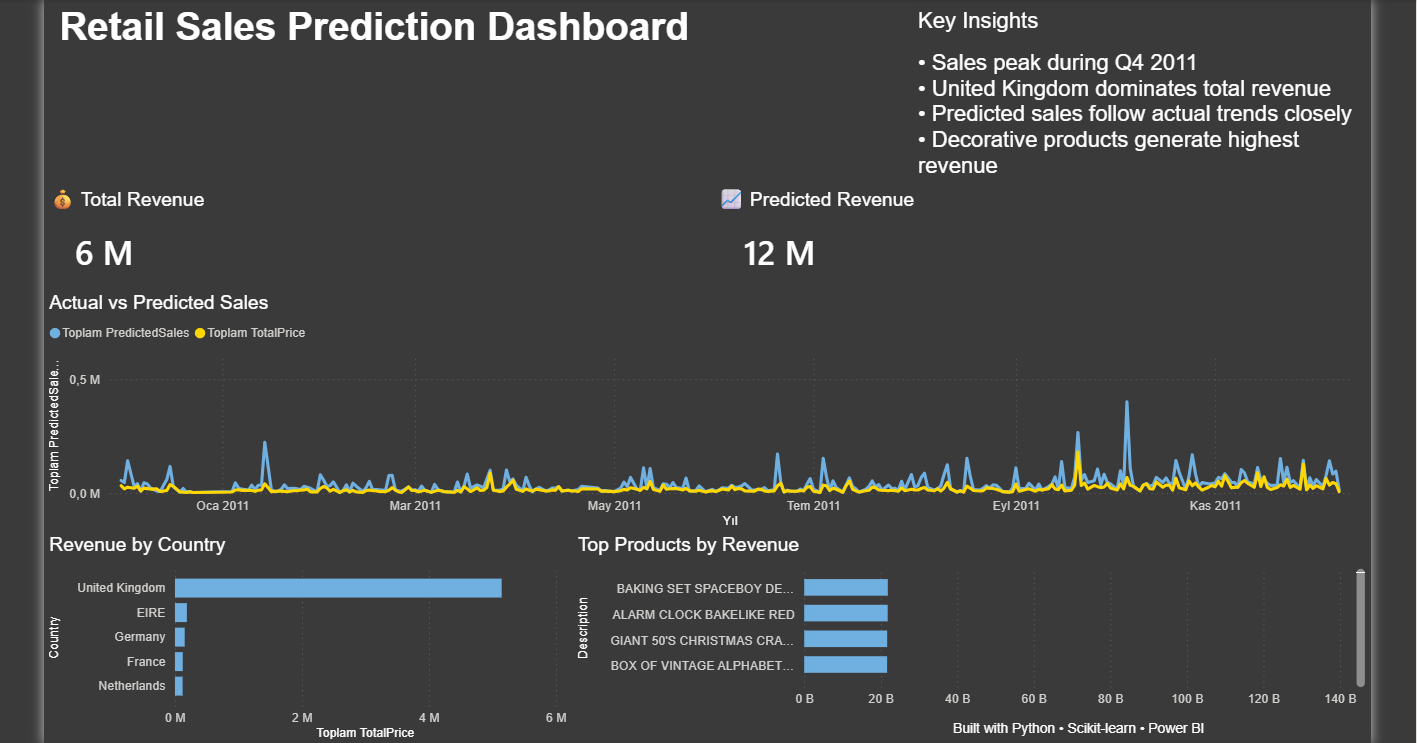

What the dashboard file says about the page in this screenshot:
{"tool":"powerbi","page":{"name":"1. sayfa","canvas":[1280,720],"ordinal":0},"visuals":[{"type":"barChart","title":"Top Products by Revenue","fields":{"Category":["predictions.Description"],"Y":["Sum(predictions.TotalPrice)"]},"box":[510.3,516.4,769.7,174.9],"z":0},{"type":"cardVisual","title":"📈 Predicted Revenue","fields":{"Data":["Sum(predictions.PredictedSales)"]},"box":[644.9,179.8,635.3,102.9],"z":1000},{"type":"lineChart","title":"Actual vs Predicted Sales","fields":{"Y":["Sum(predictions.PredictedSales)","Sum(predictions.TotalPrice)"],"Category":["predictions.InvoiceDate.Varyasyon.Tarih Hiyerarşisi.Yıl","predictions.InvoiceDate.Varyasyon.Tarih Hiyerarşisi.Çeyrek","predictions.InvoiceDate.Varyasyon.Tarih Hiyerarşisi.Ay","predictions.InvoiceDate.Varyasyon.Tarih Hiyerarşisi.Gün"]},"box":[0,282.7,1280.3,233.3],"z":2000},{"type":"textbox","box":[9.6,0,828.8,153.7],"z":3000},{"type":"cardVisual","title":"💰 Total Revenue","fields":{"Data":["Sum(predictions.TotalPrice)"]},"box":[0,179.8,639.5,102.9],"z":4000},{"type":"barChart","title":"Revenue by Country","fields":{"Category":["predictions.Country"],"Y":["Sum(predictions.TotalPrice)"]},"box":[0,516.4,510.3,203.9],"z":5000},{"type":"textbox","box":[838.4,4.1,441.9,175.6],"z":6000},{"type":"textbox","box":[872.3,691.3,407.8,29],"z":7000}]}

Visuals, with their boxes on the page's 1280x720 design canvas (x1, y1, x2, y2). These are canvas units, not pixel positions in the 1417x743 screenshot, which may show the page scaled, cropped or inside an application window:
"Top Products by Revenue" barChart: (x1=510, y1=516, x2=1280, y2=691)
"📈 Predicted Revenue" cardVisual: (x1=645, y1=180, x2=1280, y2=283)
"Actual vs Predicted Sales" lineChart: (x1=0, y1=283, x2=1280, y2=516)
textbox: (x1=10, y1=0, x2=838, y2=154)
"💰 Total Revenue" cardVisual: (x1=0, y1=180, x2=640, y2=283)
"Revenue by Country" barChart: (x1=0, y1=516, x2=510, y2=720)
textbox: (x1=838, y1=4, x2=1280, y2=180)
textbox: (x1=872, y1=691, x2=1280, y2=720)
